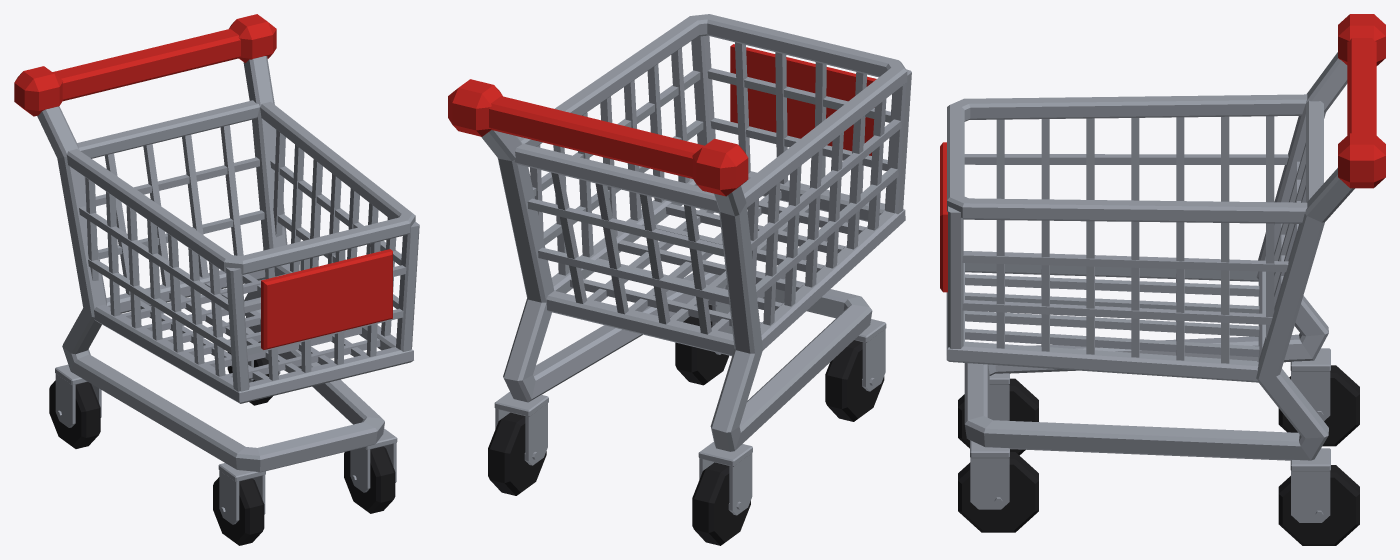
The model's file is carrito_lowpoly.fbx.
The picture shows the model from 3 angles, left to right: view 1: azimuth 30°, elevation 25°; view 2: azimuth 150°, elevation 25°; view 3: azimuth 270°, elevation 25°; orthographic projection. The views are drawn at different scales.
Parts seen in each view (by area): view 1: Carrito, Rueda_Tras_Der, Rueda_Del_Der, Rueda_Del_Izq, Horquilla_Del_Der, Horquilla_Tras_Der, Horquilla_Del_Izq; view 2: Carrito, Rueda_Tras_Izq, Rueda_Tras_Der, Rueda_Del_Der, Horquilla_Tras_Der, Horquilla_Tras_Izq, Rueda_Del_Izq, Horquilla_Del_Der; view 3: Carrito, Rueda_Del_Izq, Rueda_Tras_Izq, Horquilla_Tras_Izq, Horquilla_Del_Izq, Rueda_Tras_Der, Horquilla_Tras_Der, Rueda_Del_Der, Horquilla_Del_Der.
Boxes of the visible parts, x1=… form: Carrito: x1=14, y1=14, x2=419, y2=472; Rueda_Tras_Der: x1=49, y1=380, x2=100, y2=448; Rueda_Del_Der: x1=213, y1=477, x2=264, y2=545; Rueda_Del_Izq: x1=344, y1=446, x2=395, y2=513; Horquilla_Del_Der: x1=218, y1=463, x2=265, y2=524; Horquilla_Tras_Der: x1=55, y1=364, x2=101, y2=427; Horquilla_Del_Izq: x1=350, y1=428, x2=397, y2=492; Carrito: x1=448, y1=14, x2=911, y2=451; Rueda_Tras_Izq: x1=488, y1=412, x2=546, y2=495; Rueda_Tras_Der: x1=692, y1=462, x2=750, y2=545; Rueda_Del_Der: x1=825, y1=340, x2=884, y2=421; Horquilla_Tras_Der: x1=698, y1=442, x2=752, y2=515; Horquilla_Tras_Izq: x1=494, y1=392, x2=548, y2=465; Rueda_Del_Izq: x1=675, y1=304, x2=728, y2=385; Horquilla_Del_Der: x1=854, y1=319, x2=886, y2=391; Carrito: x1=940, y1=14, x2=1385, y2=460; Rueda_Del_Izq: x1=958, y1=452, x2=1038, y2=532; Rueda_Tras_Izq: x1=1278, y1=465, x2=1359, y2=545; Horquilla_Tras_Izq: x1=1290, y1=448, x2=1330, y2=522; Horquilla_Del_Izq: x1=970, y1=440, x2=1009, y2=509; Rueda_Tras_Der: x1=1278, y1=365, x2=1359, y2=446; Horquilla_Tras_Der: x1=1290, y1=348, x2=1330, y2=420; Rueda_Del_Der: x1=958, y1=378, x2=1038, y2=455; Horquilla_Del_Der: x1=989, y1=373, x2=1009, y2=420.
Size of the model in its own units: 0.78 by 1.07 by 1.04.
